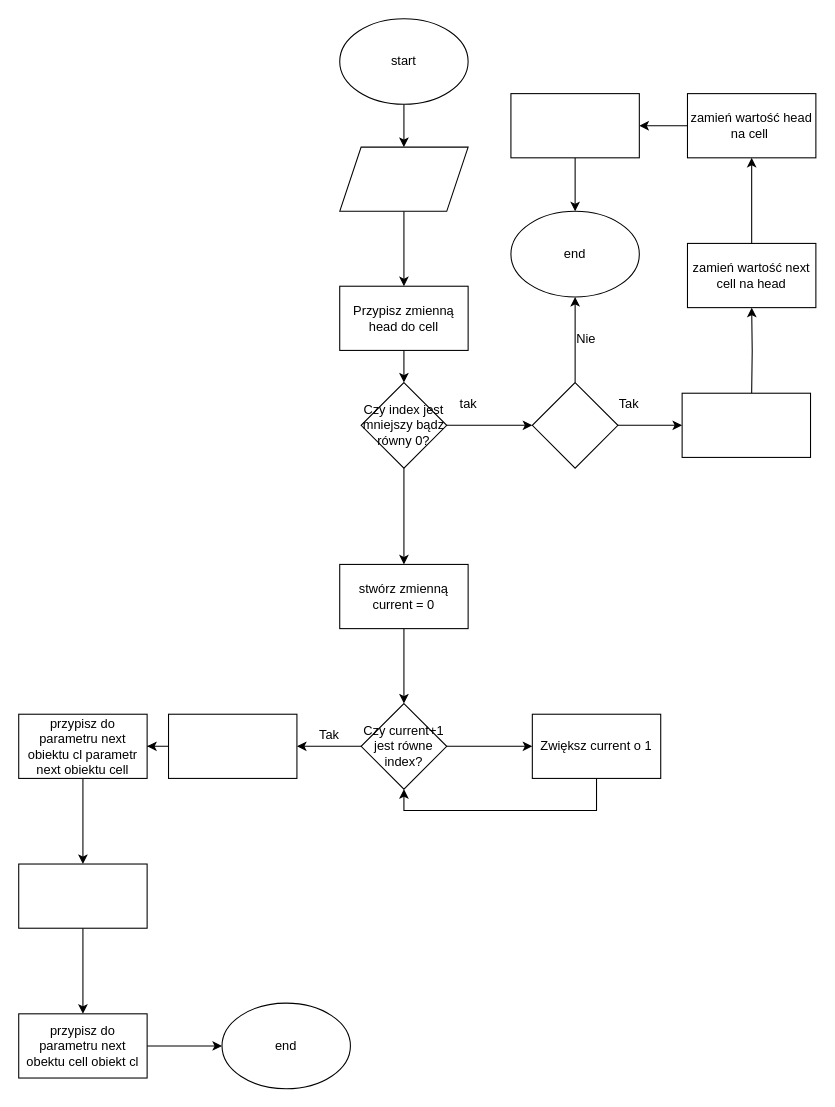
This 835x1107 diagram has some shape labels left out. The centre of each missing label's shape, as x and y in pixels:
"Czy index jest równy 0?" goes at point (574, 424).
"pobierz zmienną index, pobeirz zmienną dane" goes at point (403, 178).
"przypisz do parametru previous obektu cl obiekt cell" goes at point (82, 895).
"stwórz nowy obiekt komórki zawierającej dane i przypisz obiekt to cell" goes at point (746, 424).
"stwórz obiekt komórka zawierającą dene, przypisz go do zmiennej cl" goes at point (232, 745).
"zmień wartość next wartownika na head" goes at point (574, 125).
